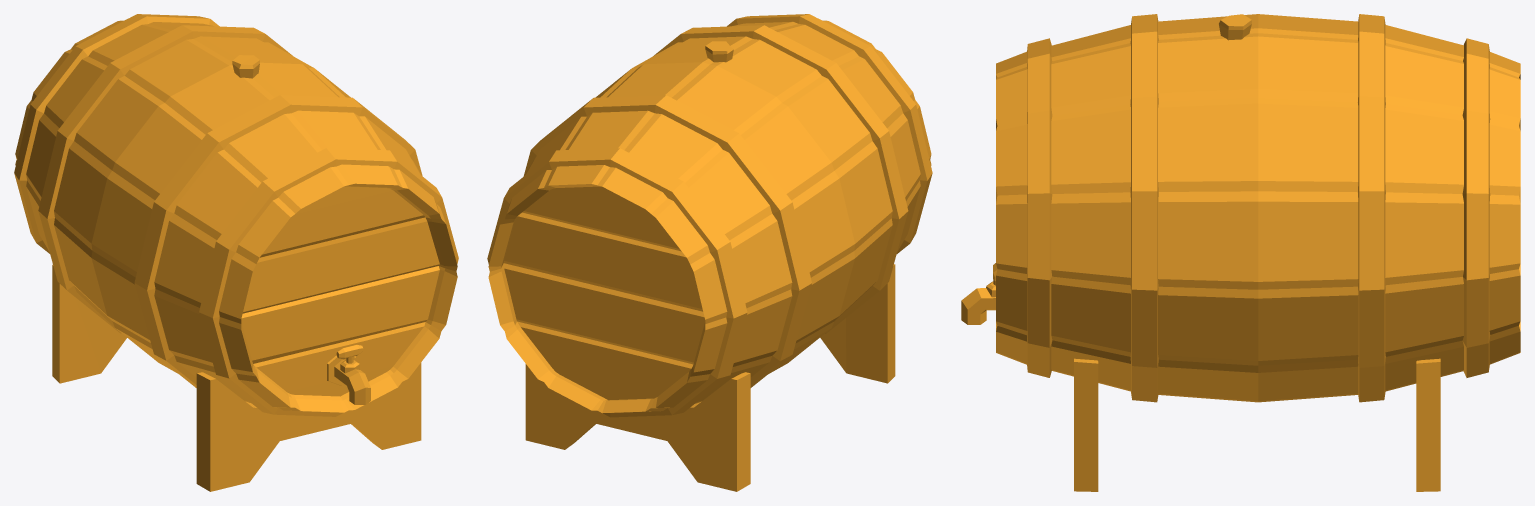
File: SM_Barrel_Tap.fbx
The picture shows the model from 3 angles, left to right: view 1: azimuth 30°, elevation 25°; view 2: azimuth 150°, elevation 25°; view 3: azimuth 270°, elevation 25°; orthographic projection. The views are drawn at different scales.
Visible parts, largest first — view 1: barrel-tap; view 2: barrel-tap; view 3: barrel-tap.
Part boxes in pixels (<box>): barrel-tap: <box>14,14,458,491</box>; barrel-tap: <box>487,14,932,491</box>; barrel-tap: <box>961,14,1520,491</box>.
Bounding box in the file's own units: 0.8921 × 1.04 × 1.28.
